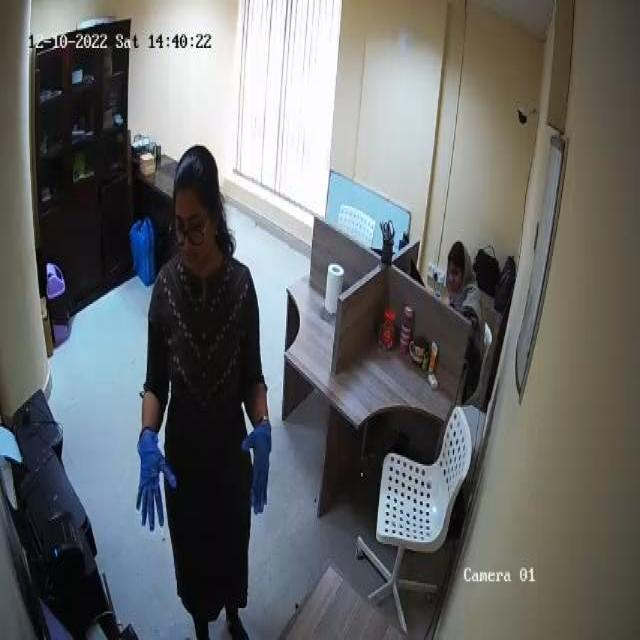gloved_hand: (133, 436, 175, 530), (241, 420, 272, 514)
